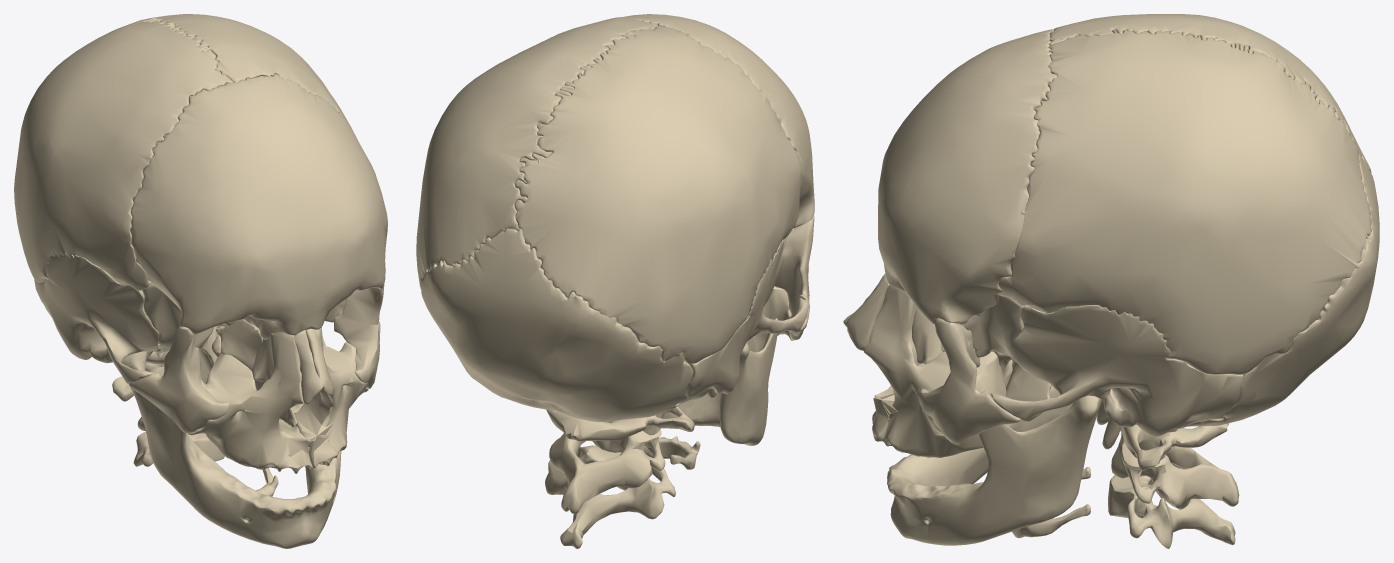
The model's file is skull.glb.
3 renders of one model, left to right at view 1: azimuth 30°, elevation 25°; view 2: azimuth 150°, elevation 25°; view 3: azimuth 270°, elevation 25°, orthographic. The views are drawn at different scales.
Visible parts, largest first — view 1: frontal-bone, parietal-bone-right, mandible, maxilla-right, temporal-bone-right, parietal-bone-left, zygomatic-right, maxilla-left, zygomatic-left, sphenoid, ethmoid, nasal-bone-right (+4 smaller); view 2: parietal-bone-right, occipital-bone, parietal-bone-left, frontal-bone, real-axis, mandible, temporal-bone-right, real-third-cervical-vertebra, real-atlas, zygomatic-right, maxilla-right, real-hyoid-bone-2; view 3: parietal-bone-left, frontal-bone, mandible, temporal-bone-left, maxilla-left, occipital-bone, parietal-bone-right, zygomatic-left, real-axis, real-third-cervical-vertebra, sphenoid, real-atlas (+3 smaller).
Boxes of the visible parts, left/top/right/bottom form: frontal-bone: left=130, top=74, right=387, bottom=339; parietal-bone-right: left=14, top=18, right=233, bottom=290; mandible: left=121, top=335, right=341, bottom=548; maxilla-right: left=188, top=332, right=312, bottom=473; temporal-bone-right: left=34, top=252, right=159, bottom=390; parietal-bone-left: left=143, top=14, right=357, bottom=139; zygomatic-right: left=129, top=327, right=229, bottom=433; maxilla-left: left=280, top=327, right=368, bottom=468; zygomatic-left: left=334, top=284, right=384, bottom=388; sphenoid: left=142, top=282, right=356, bottom=383; ethmoid: left=216, top=319, right=262, bottom=370; nasal-bone-right: left=294, top=330, right=322, bottom=404; parietal-bone-right: left=514, top=25, right=802, bottom=363; occipital-bone: left=420, top=228, right=692, bottom=421; parietal-bone-left: left=416, top=17, right=657, bottom=288; frontal-bone: left=624, top=14, right=814, bottom=228; real-axis: left=549, top=420, right=665, bottom=513; mandible: left=662, top=318, right=777, bottom=445; temporal-bone-right: left=678, top=235, right=808, bottom=403; real-third-cervical-vertebra: left=545, top=445, right=675, bottom=548; real-atlas: left=546, top=406, right=694, bottom=441; zygomatic-right: left=774, top=216, right=814, bottom=340; maxilla-right: left=747, top=286, right=793, bottom=352; real-hyoid-bone-2: left=643, top=436, right=700, bottom=469; parietal-bone-left: left=998, top=29, right=1371, bottom=374; frontal-bone: left=878, top=29, right=1056, bottom=324; mandible: left=887, top=385, right=1101, bottom=545; temporal-bone-left: left=990, top=305, right=1243, bottom=449; maxilla-left: left=864, top=285, right=1006, bottom=457; occipital-bone: left=1186, top=151, right=1379, bottom=426; parietal-bone-right: left=1049, top=14, right=1371, bottom=172; zygomatic-left: left=919, top=318, right=1020, bottom=444; real-axis: left=1111, top=432, right=1239, bottom=508; real-third-cervical-vertebra: left=1108, top=475, right=1235, bottom=548; sphenoid: left=961, top=294, right=1051, bottom=421; real-atlas: left=1120, top=423, right=1228, bottom=470.
Size of the model in its own units: 0.151 by 0.2193 by 0.2088.
